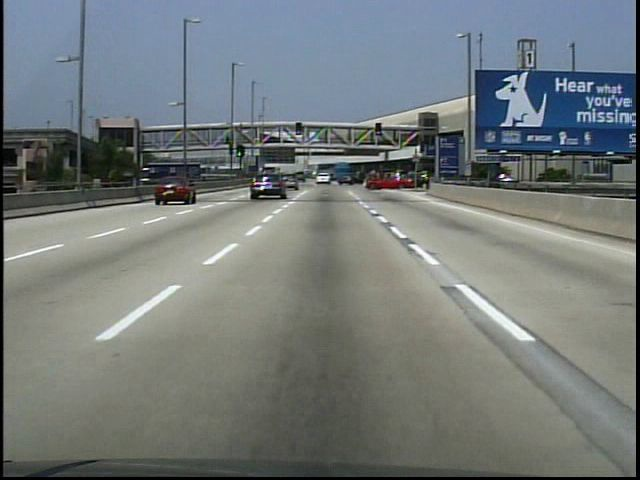person: (225, 136, 230, 147)
